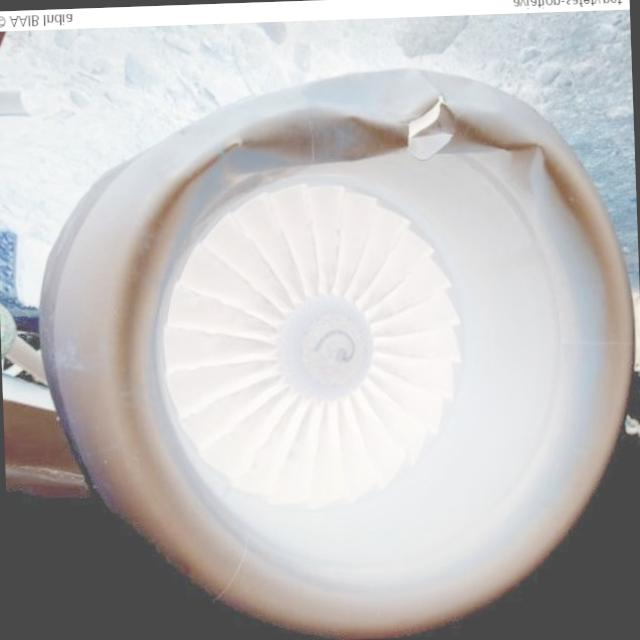dent: (227, 102, 406, 171), (500, 137, 548, 197)
